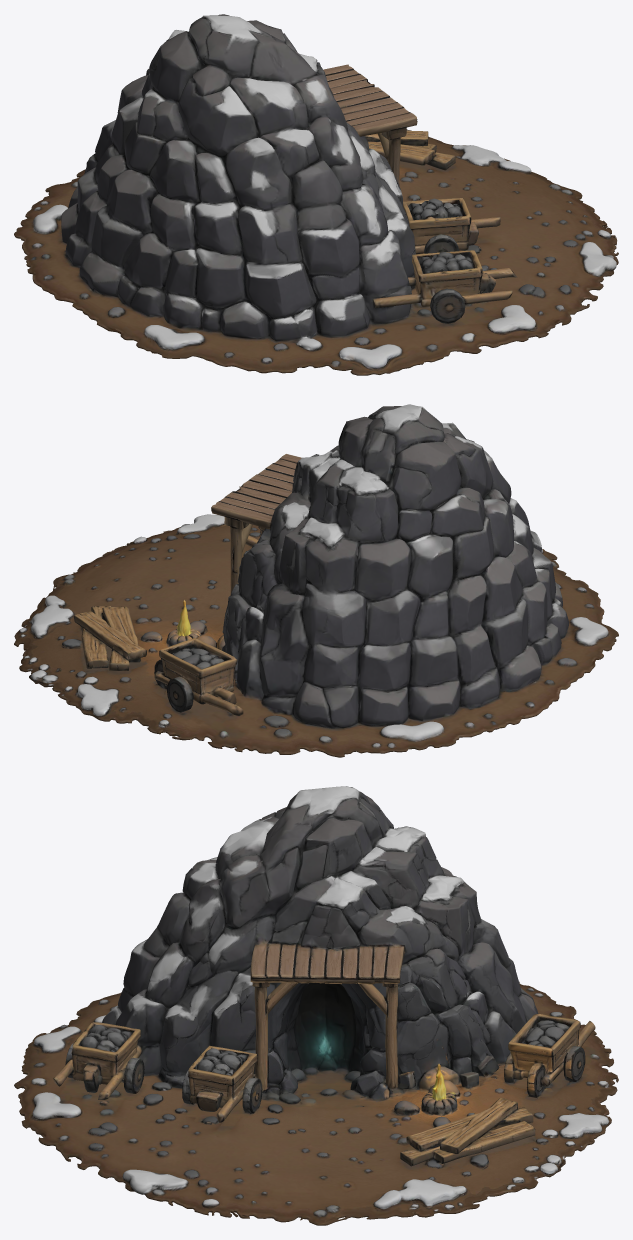
Rendered from tripo_convert_ec57130b-06db-4860-aa72-eac39f2c2585.fbx.
The picture shows the model from 3 angles, top to bottom: view 1: azimuth 30°, elevation 25°; view 2: azimuth 150°, elevation 25°; view 3: azimuth 270°, elevation 25°; orthographic projection.
Visible parts, largest first — view 1: tripo_node_ec57130b; view 2: tripo_node_ec57130b; view 3: tripo_node_ec57130b.
Part boxes in pixels (x1,y1,x2,y2): tripo_node_ec57130b: (14,14,618,375); tripo_node_ec57130b: (14,404,618,757); tripo_node_ec57130b: (14,786,618,1225).
Bounding box in the file's own units: 0.9803 × 0.469 × 0.9796.
Materials: 1 (1 with a texture image).
